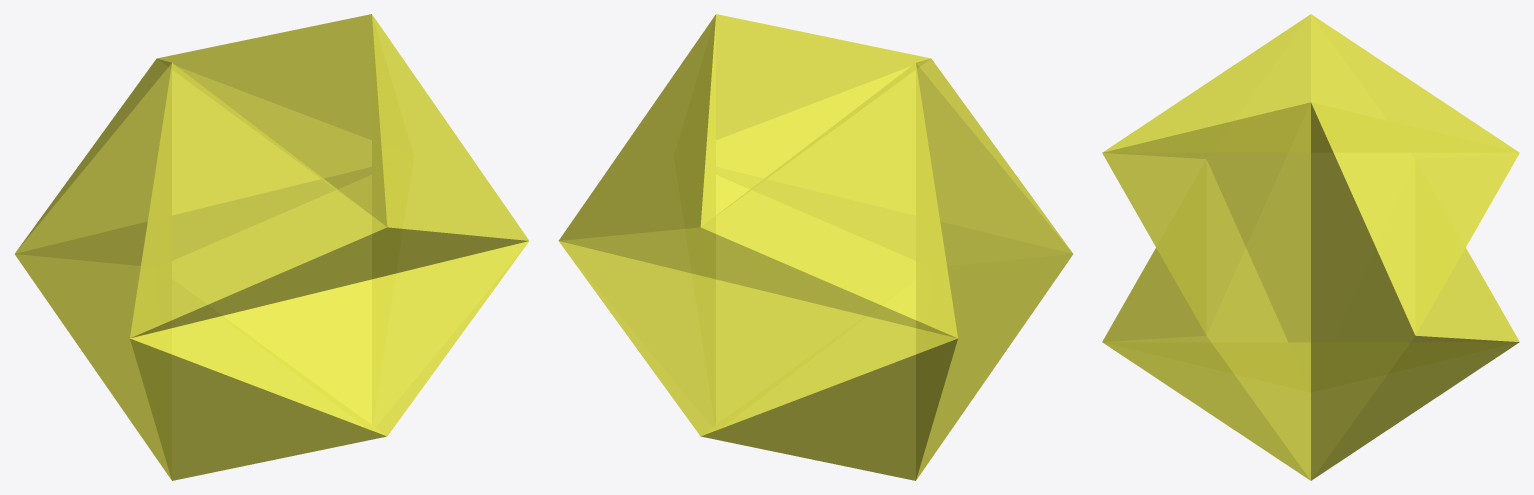
The model's file is JessensOrthogonalIcosahedron.obj.
3 views of the same model, side by side, from view 1: azimuth 30°, elevation 25°; view 2: azimuth 150°, elevation 25°; view 3: azimuth 270°, elevation 25° (orthographic). The views are drawn at different scales.
Bounding box in the file's own units: 4 × 4 × 4.
